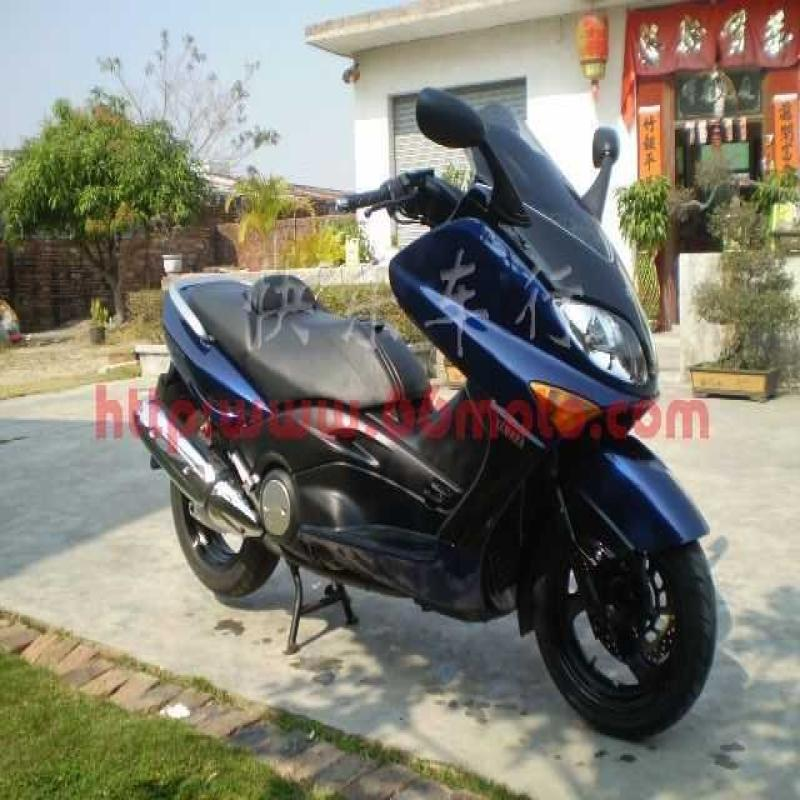bike: (116, 193, 737, 723)
